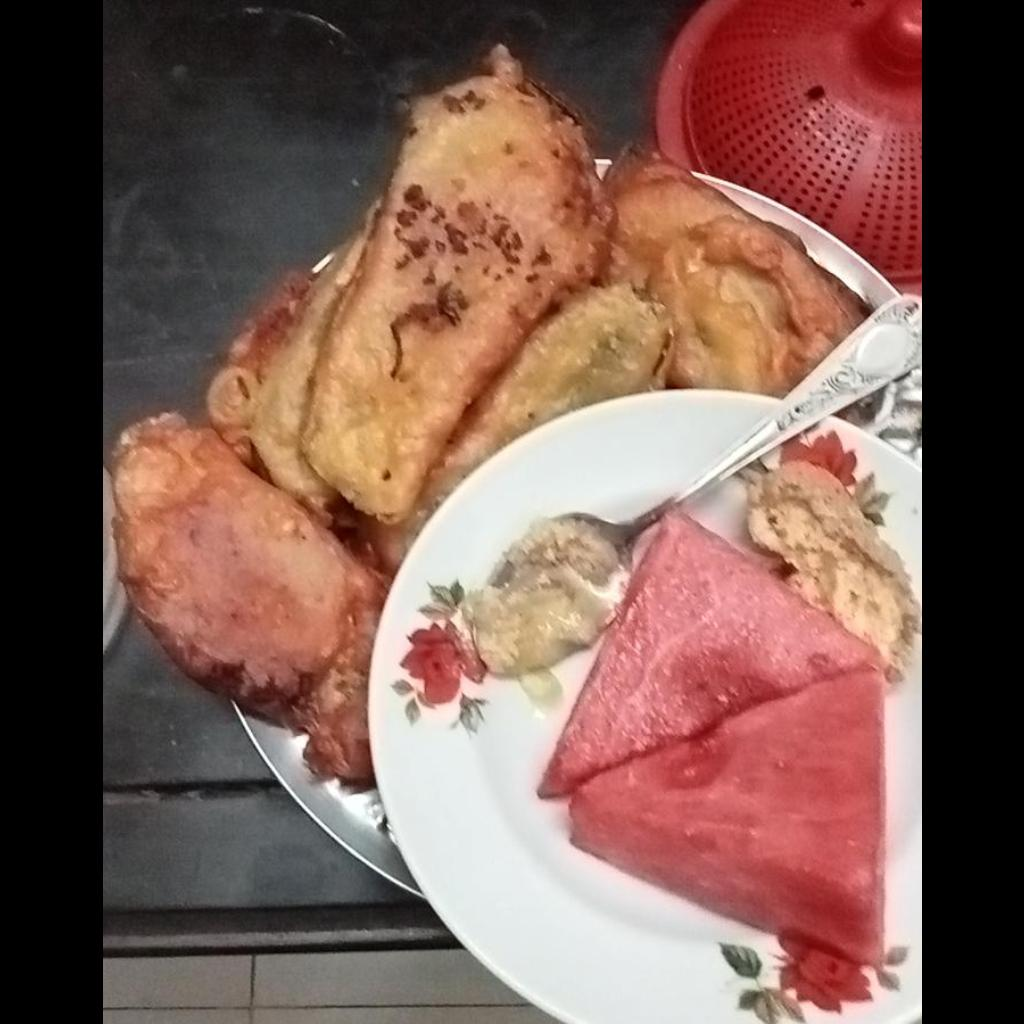beguni: (106, 44, 859, 787)
sweets: (752, 459, 920, 647)
watermelon: (539, 514, 882, 972)
